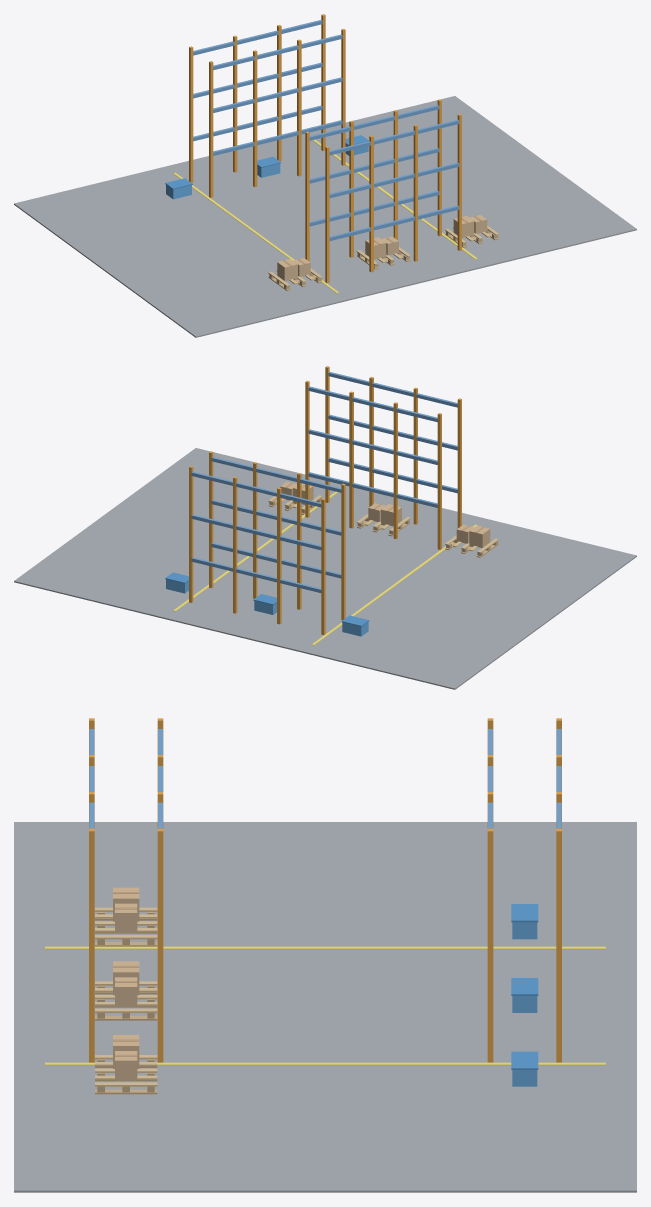
File: warehouse_aisle.glb
3 renders of one model, top to bottom at view 1: azimuth 30°, elevation 25°; view 2: azimuth 150°, elevation 25°; view 3: azimuth 270°, elevation 25°, orthographic. The views are drawn at different scales.
Visible parts, largest first — view 1: warehouse_aisle.glb; view 2: warehouse_aisle.glb; view 3: warehouse_aisle.glb.
Part boxes in pixels (x1,y1,x2,y2): warehouse_aisle.glb: (14,14,636,337); warehouse_aisle.glb: (14,366,636,689); warehouse_aisle.glb: (14,718,636,1192).
Size of the model in its own units: 14 by 4.14 by 10.
